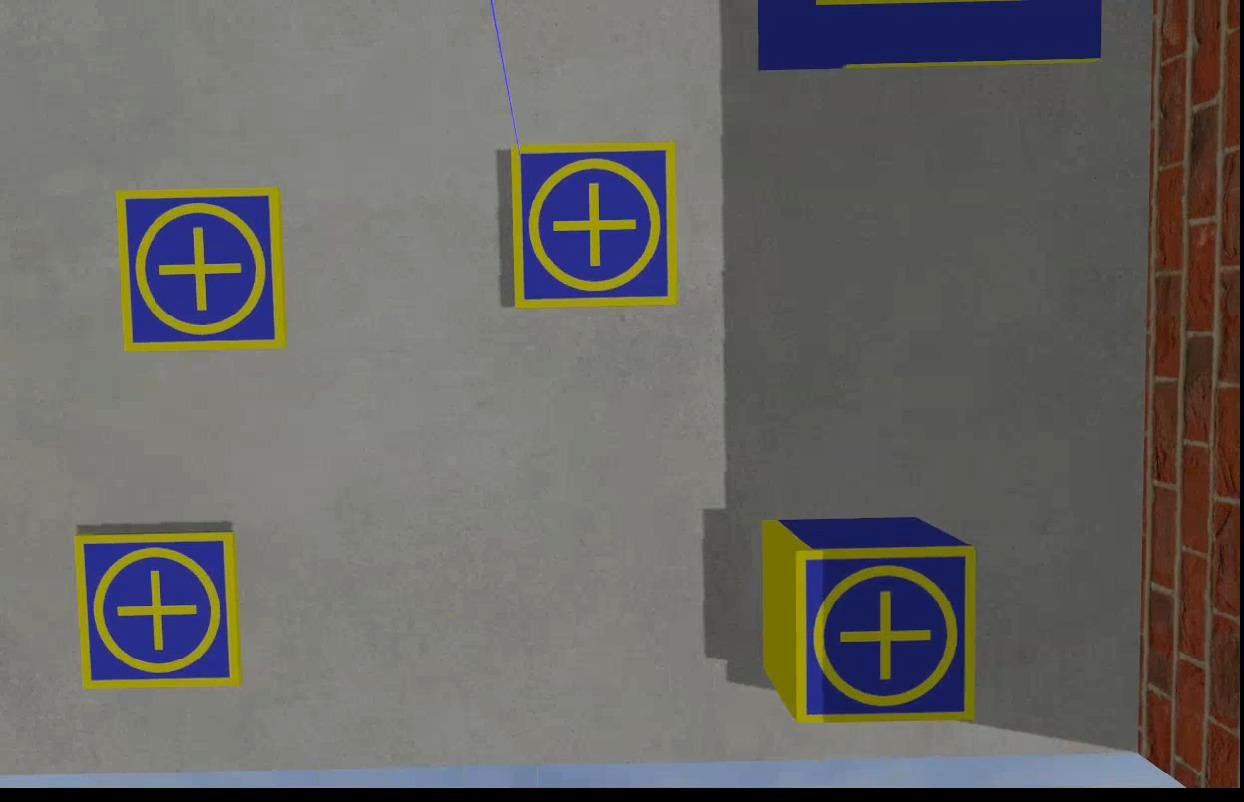small_base: (791, 544, 980, 725), (119, 184, 289, 355), (508, 143, 683, 308), (74, 528, 239, 689)
